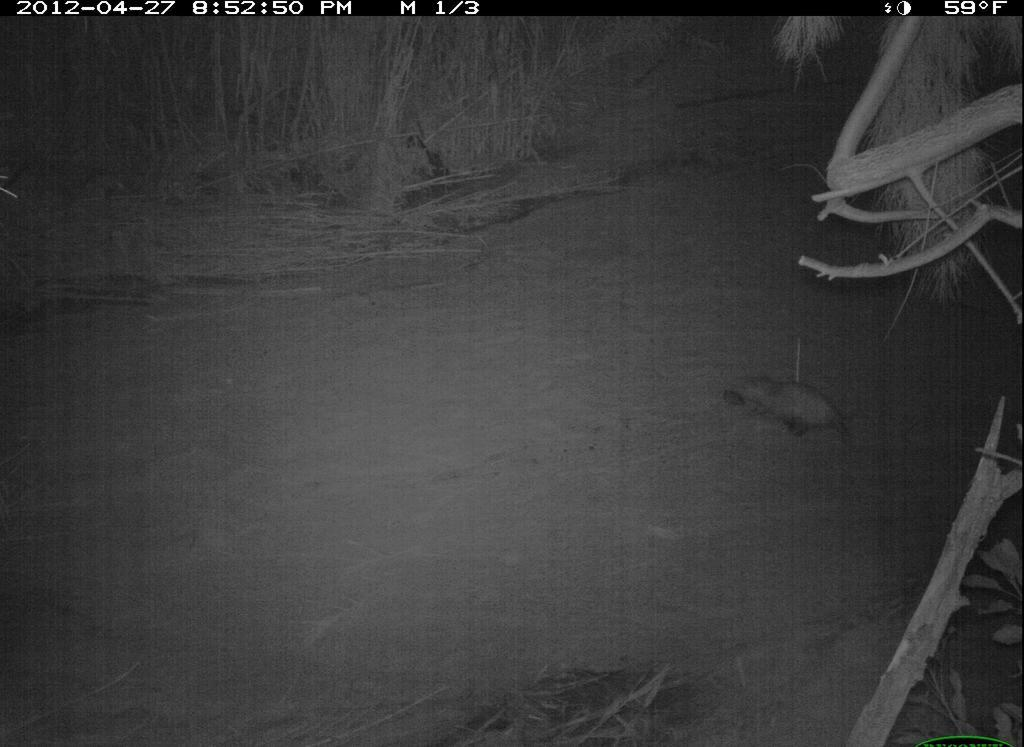opossum: (719, 368, 857, 450)
